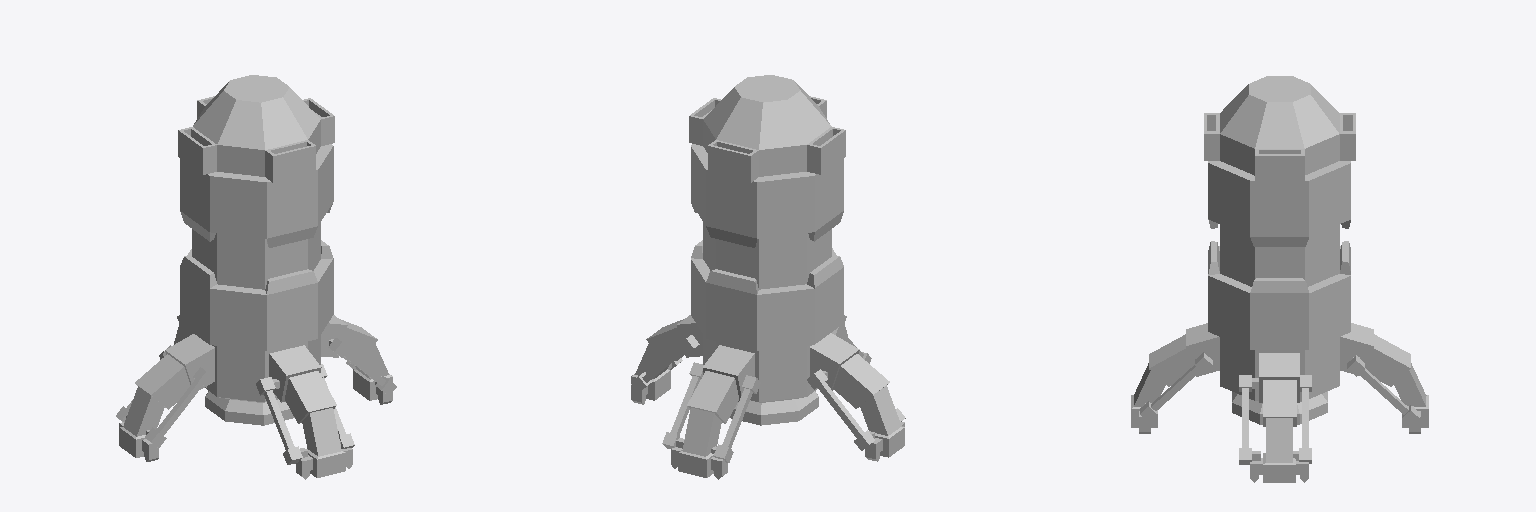
The model's file is jupiter_lander.obj.
3 renders of one model, left to right at view 1: azimuth 30°, elevation 25°; view 2: azimuth 150°, elevation 25°; view 3: azimuth 270°, elevation 25°, orthographic.
Visible parts, largest first — view 1: Body, TwoLeg, FirstLeg, ThirdLeg, TwoLegPart1, FirstLegPart1, ThirdLegPart1; view 2: Body, FourLeg, FirstLeg, ThirdLeg, FirstLegPart2, FourLegPart1, FourLegPart2, ThirdLegPart2; view 3: Body, ThirdLeg, FourLeg, TwoLeg, FourLegPart2, TwoLegPart2, ThirdLegPart1, ThirdLegPart2.
Boxes of the visible parts, x1=… form: Body: x1=178, y1=75, x2=334, y2=425; TwoLeg: x1=269, y1=345, x2=352, y2=479; FirstLeg: x1=119, y1=334, x2=214, y2=461; ThirdLeg: x1=321, y1=315, x2=392, y2=404; TwoLegPart1: x1=256, y1=377, x2=307, y2=464; FirstLegPart1: x1=145, y1=367, x2=213, y2=447; ThirdLegPart1: x1=328, y1=338, x2=396, y2=396; Body: x1=689, y1=75, x2=845, y2=425; FourLeg: x1=671, y1=345, x2=754, y2=479; FirstLeg: x1=810, y1=333, x2=904, y2=461; ThirdLeg: x1=631, y1=315, x2=702, y2=404; FirstLegPart2: x1=807, y1=369, x2=874, y2=450; FourLegPart1: x1=711, y1=375, x2=760, y2=462; FourLegPart2: x1=662, y1=362, x2=703, y2=448; ThirdLegPart2: x1=631, y1=335, x2=699, y2=392; Body: x1=1204, y1=76, x2=1355, y2=424; ThirdLeg: x1=1250, y1=353, x2=1308, y2=482; FourLeg: x1=1340, y1=323, x2=1428, y2=433; TwoLeg: x1=1131, y1=323, x2=1219, y2=433; FourLegPart2: x1=1347, y1=355, x2=1419, y2=426; TwoLegPart2: x1=1140, y1=352, x2=1212, y2=422; ThirdLegPart1: x1=1239, y1=375, x2=1260, y2=464; ThirdLegPart2: x1=1293, y1=375, x2=1311, y2=463.
Bounding box in the file's own units: 22.76 × 28.25 × 22.78.